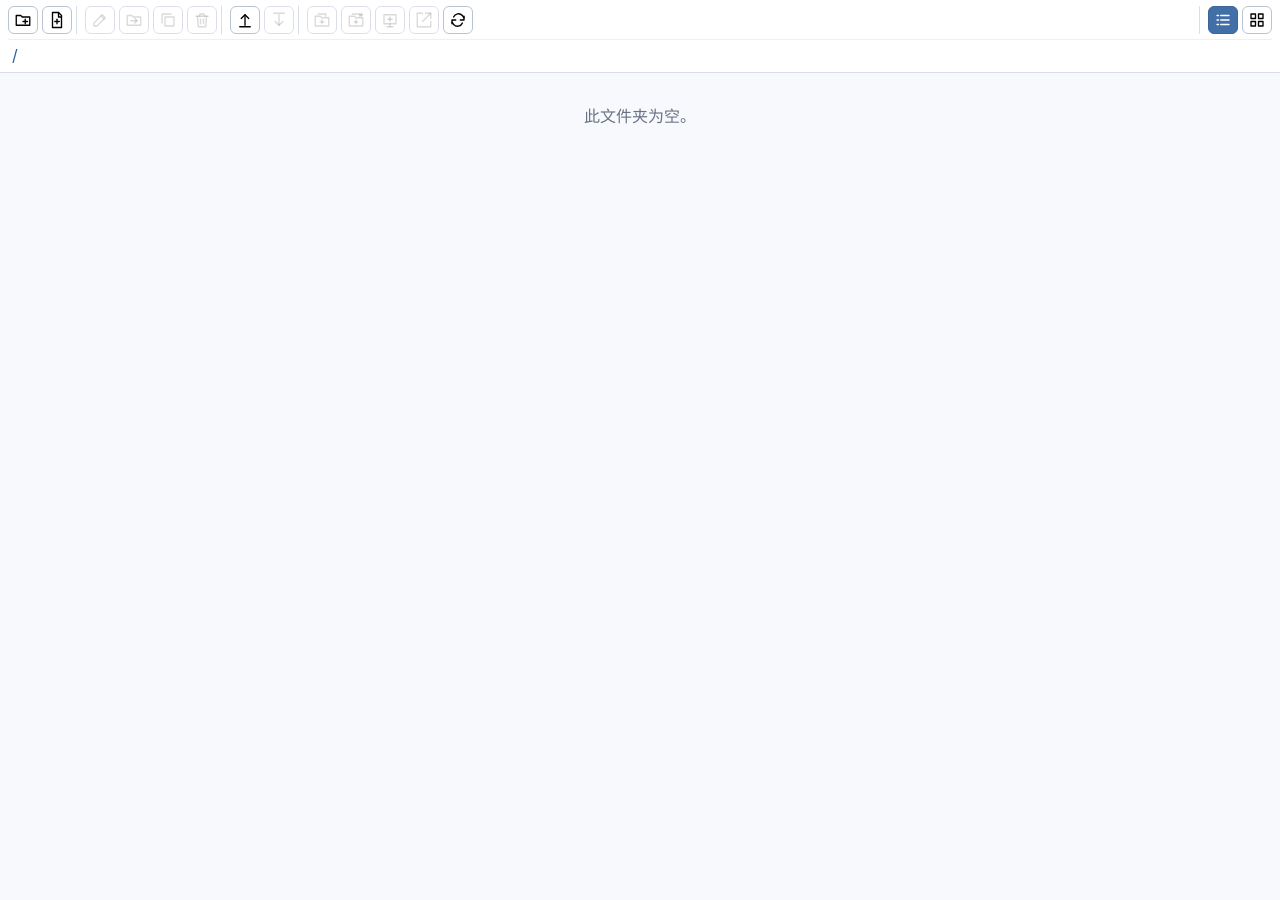
Test: FileManagerBrowser › refreshes and explains a stale revision conflict
The image size is (1280, 900).
Expected: the text "此文件夹为空。" is shown, [584,106,696,126]
Click the button named "新建文件夹". click: (23, 20)
box: [8,6,38,34]
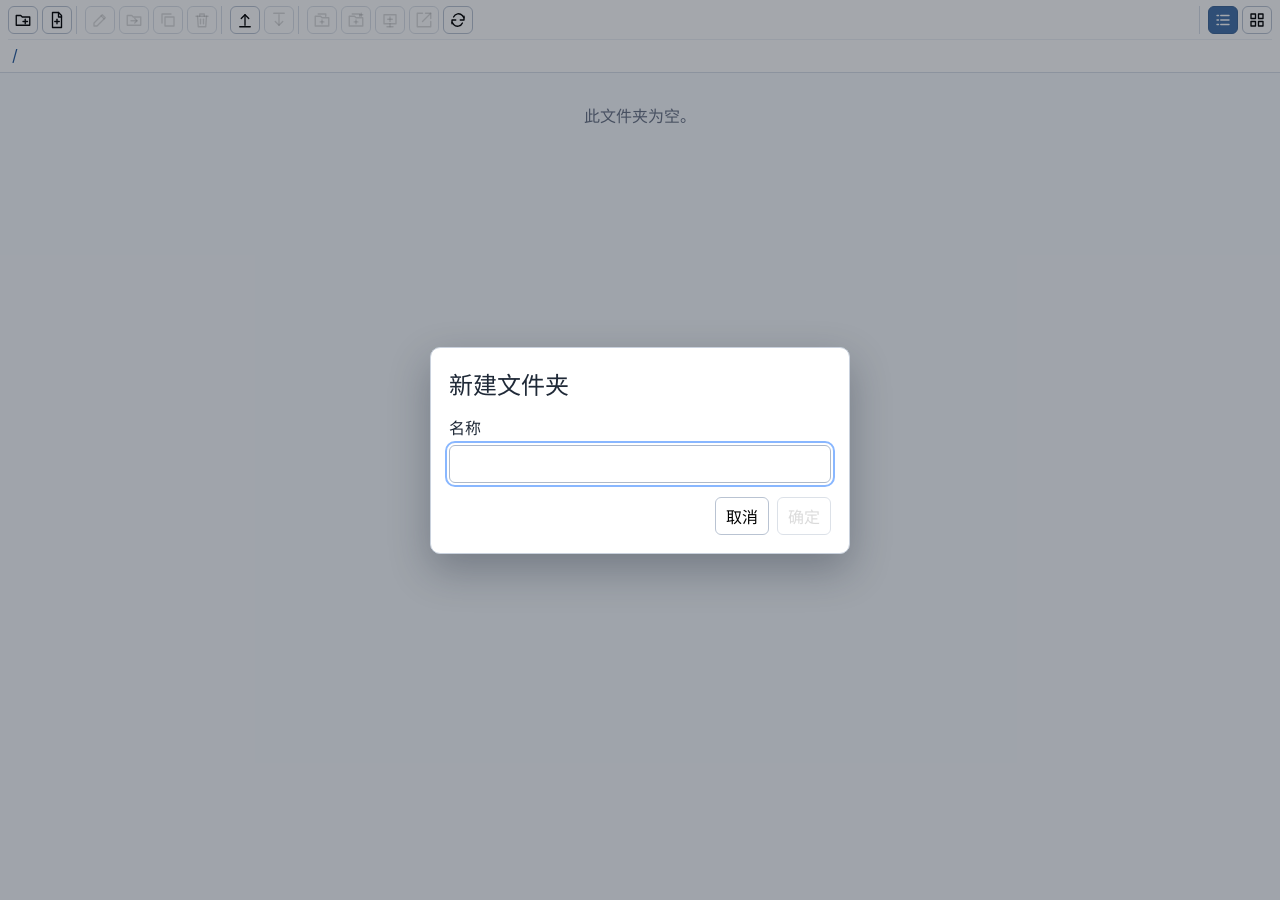
Type "Conflict" into the field labelled "名称". click: (640, 464)
box: [449,444,831,482]
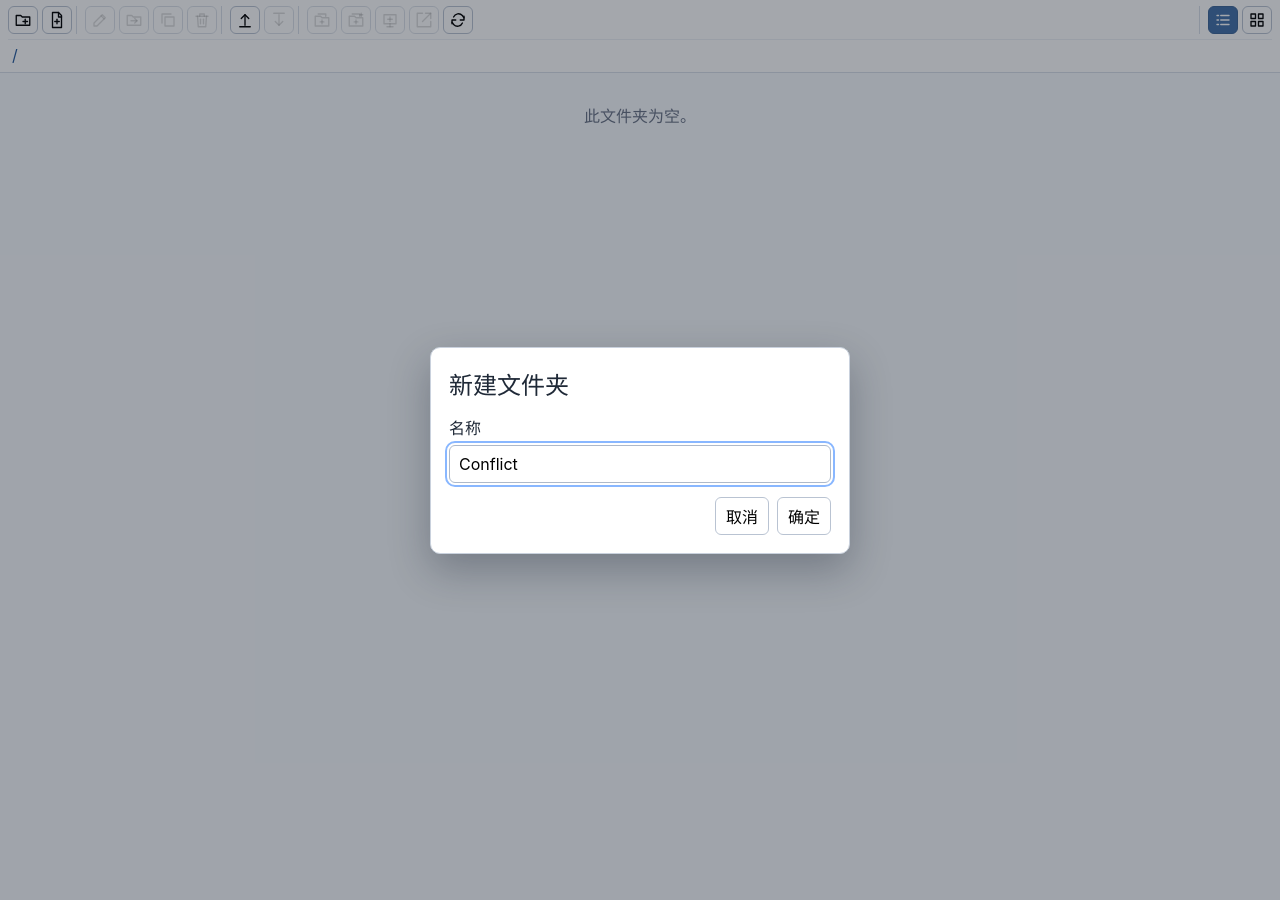
Click the button "确定". click: (804, 516)
box: [777,496,831,534]
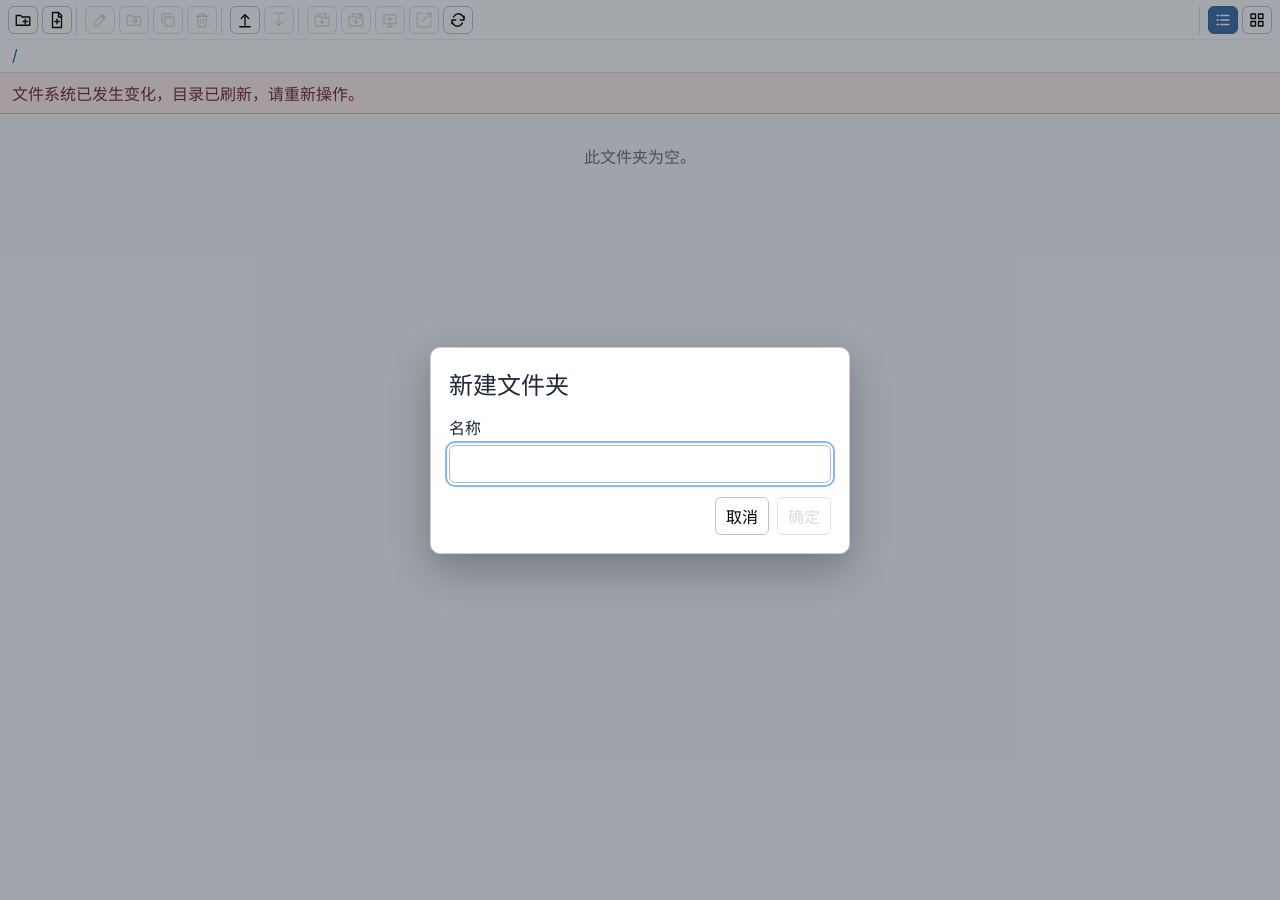
Result: the text "文件系统已发生变化，目录已刷新，请重新操作。" is shown at [0,73,1279,114]
